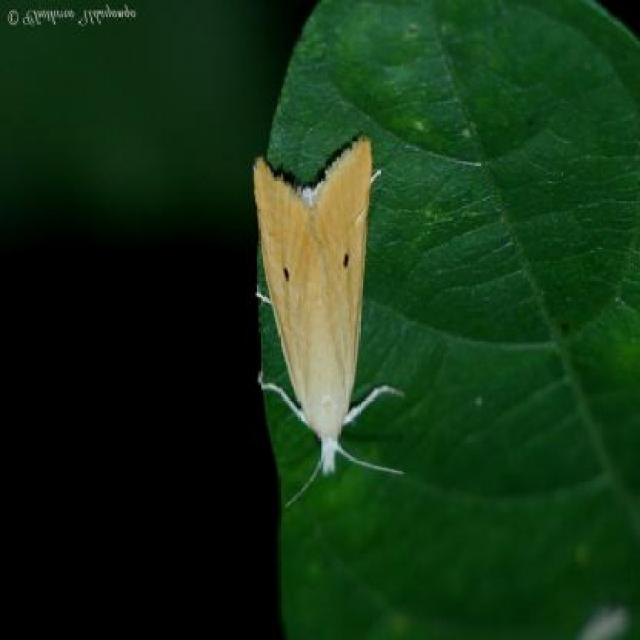stem-borer: (246, 131, 406, 506)
